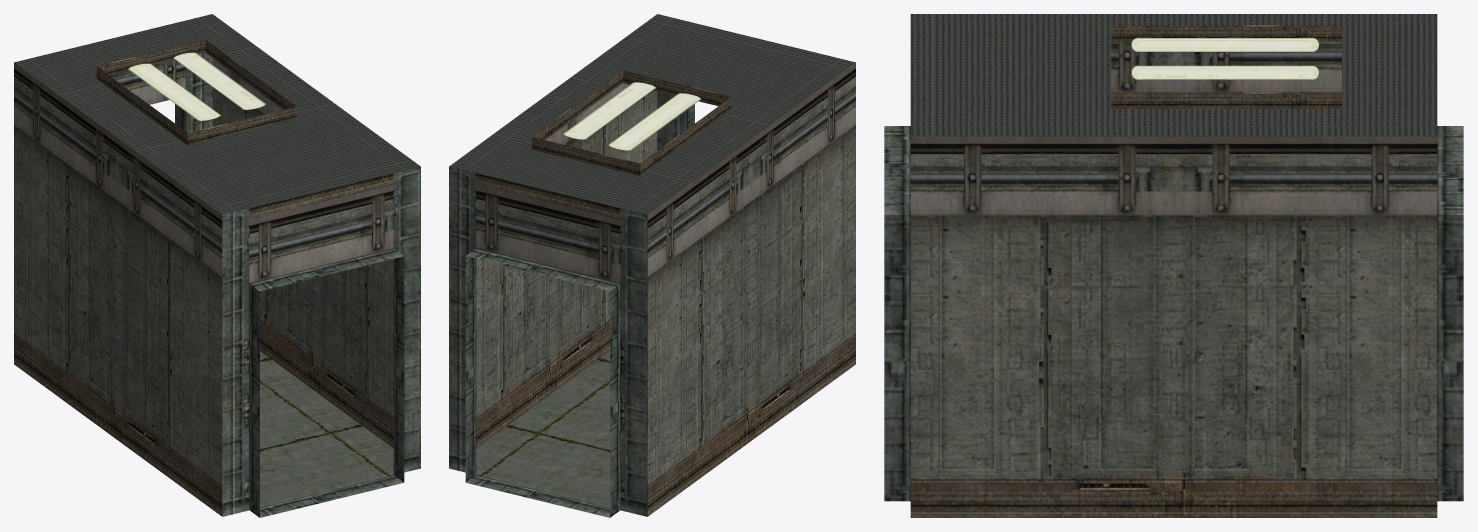
Rendered from poi_all_impl_bunker_crimelord_retreat_s01_r49_entry_mesh_r49.fbx.
3 views of the same model, side by side, from view 1: azimuth 30°, elevation 25°; view 2: azimuth 150°, elevation 25°; view 3: azimuth 270°, elevation 25° (orthographic). The views are drawn at different scales.
Parts seen in each view (by area): view 1: mesh_node; view 2: mesh_node; view 3: mesh_node.
Boxes of the visible parts, bbox=[...] form: mesh_node: bbox=[14, 14, 420, 517]; mesh_node: bbox=[449, 14, 855, 517]; mesh_node: bbox=[884, 14, 1463, 517].
Bounding box in the file's own units: 2.75 × 4.17 × 5.5.
